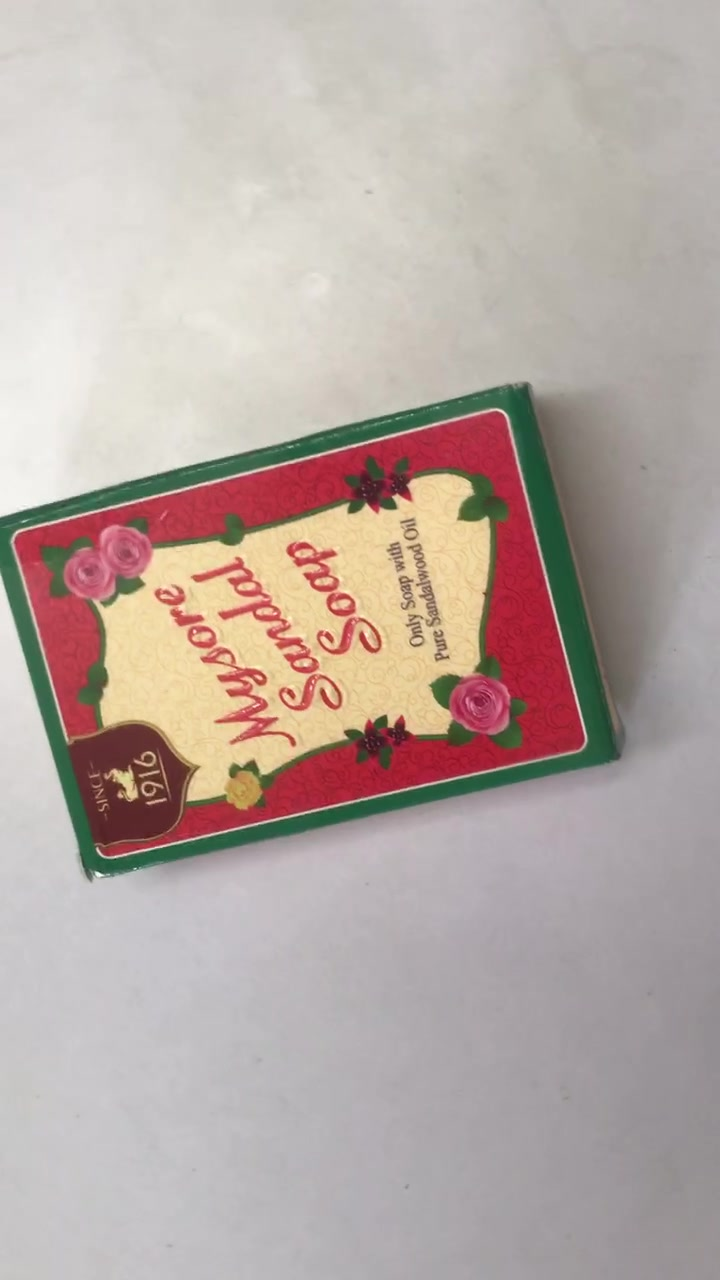mysore sandal soap: (12, 400, 623, 880)
